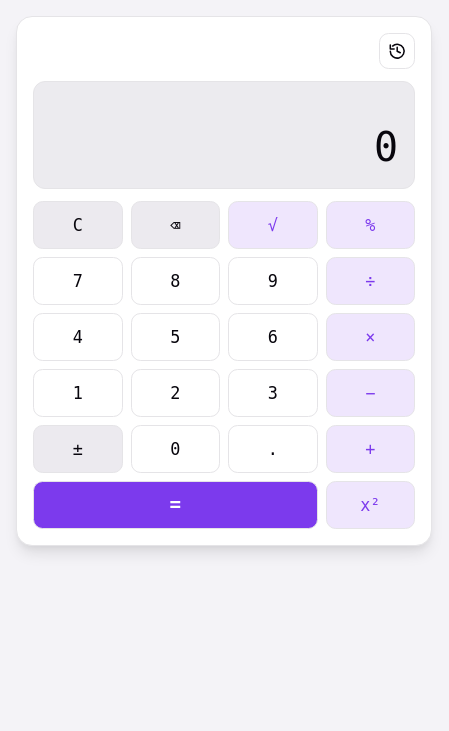
it: Calculator › shows an inline error message (not a native alert) on API failure
Click the button with test id "key-1" at x=78, y=393, box [33,369,122,417]
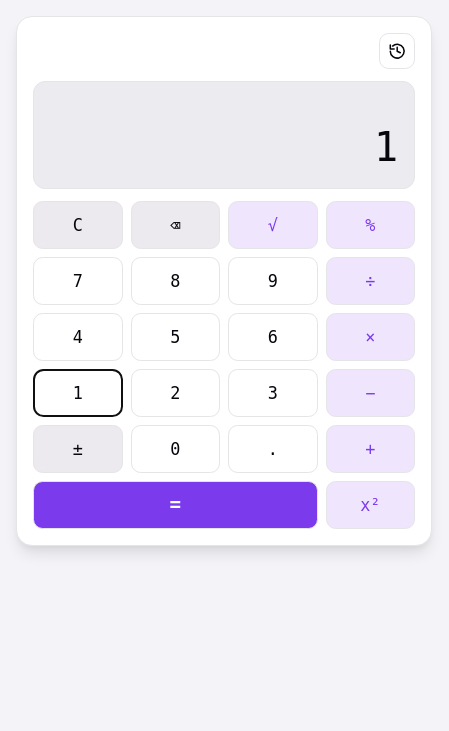
Click the button with test id "key-divide" at x=370, y=281, box [326,257,415,305]
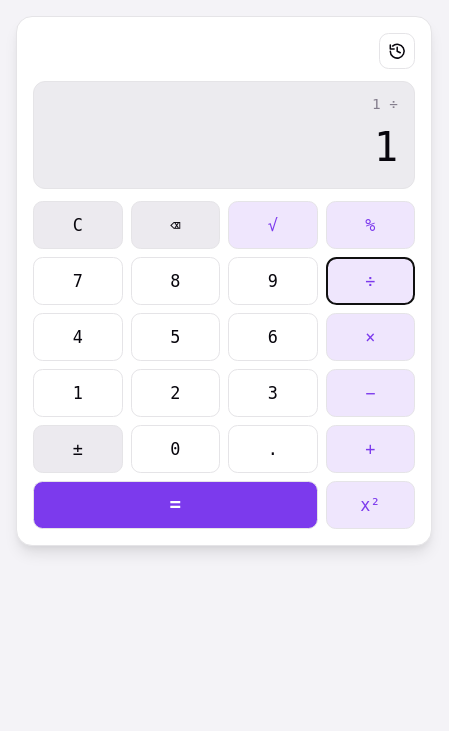
Click the button with test id "key-0" at x=175, y=449, box [130,425,220,473]
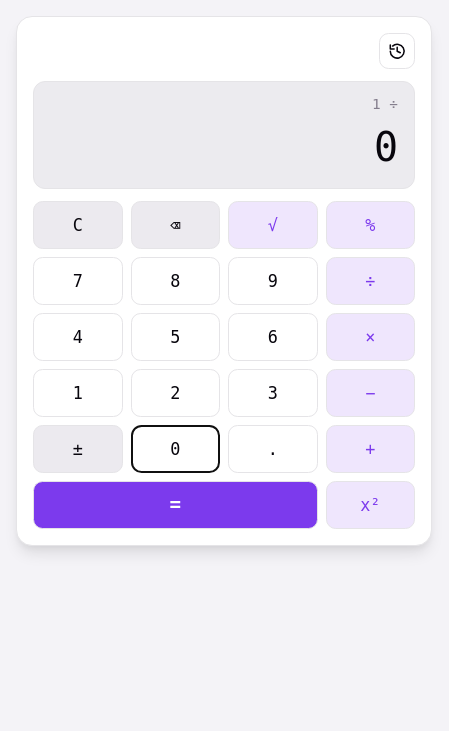
Click the button with test id "key-equals" at x=175, y=505, box [33,481,318,529]
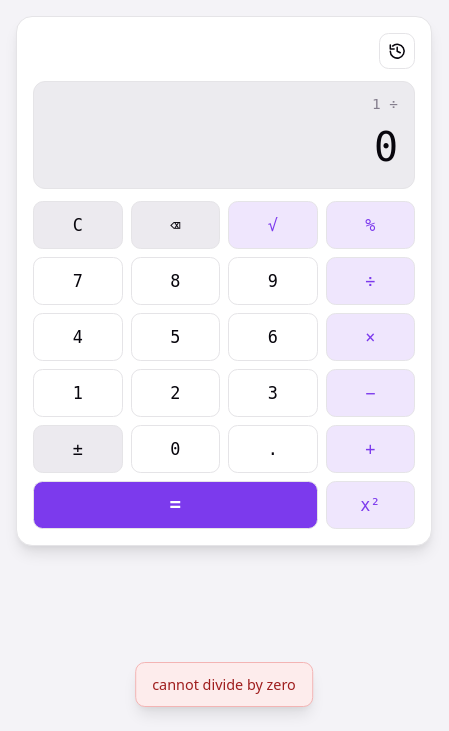
Result: the message reads "cannot divide by zero" at [152,675,296,694]
